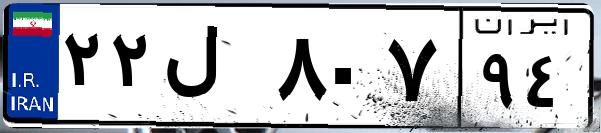0: (330, 28, 385, 110)
2: (57, 26, 110, 100), (110, 28, 158, 98)
4: (525, 38, 570, 115)
7: (385, 28, 445, 110)
8: (270, 28, 330, 110)
9: (475, 38, 525, 113)
ل: (158, 20, 270, 120)
